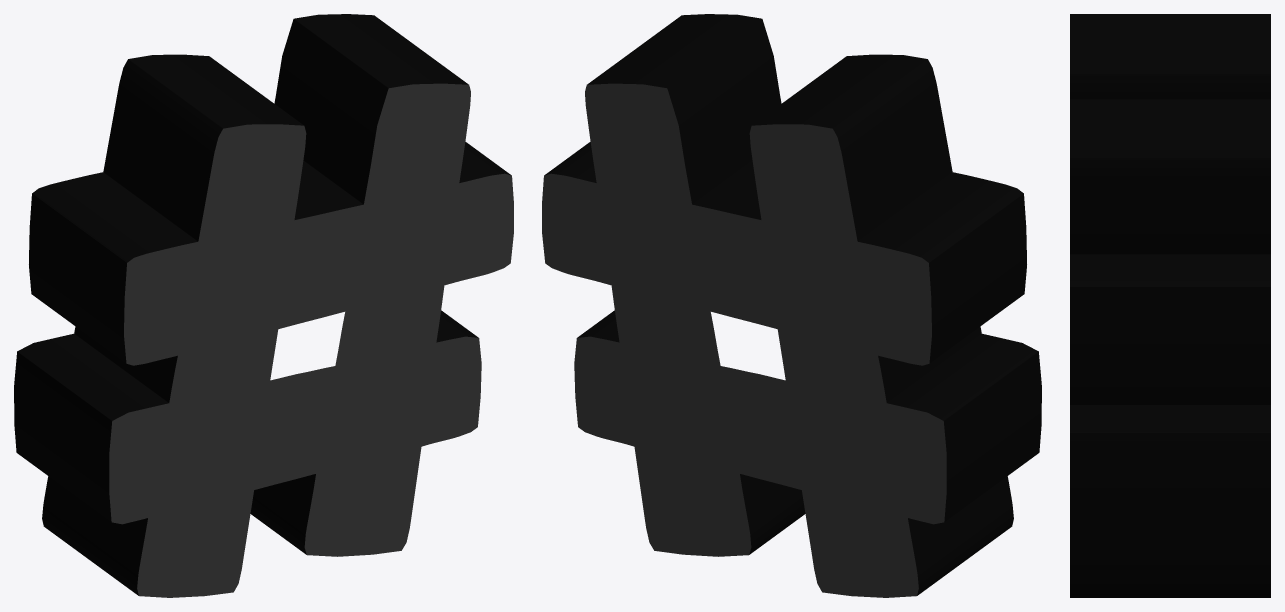
The picture shows the model from 3 angles, left to right: view 1: azimuth 30°, elevation 25°; view 2: azimuth 150°, elevation 25°; view 3: azimuth 270°, elevation 25°; orthographic projection. The views are drawn at different scales.
Visible parts, largest first — view 1: #_Zyzol_Black; view 2: #_Zyzol_Black; view 3: #_Zyzol_Black.
Part boxes in pixels (<box>): #_Zyzol_Black: <box>14,14,513,597</box>; #_Zyzol_Black: <box>542,14,1041,597</box>; #_Zyzol_Black: <box>1070,14,1270,597</box>.
Size of what is drawn, in the model's own units: 0.1106 by 0.1218 by 0.045.
Materials: 2 (2 with a texture image).
